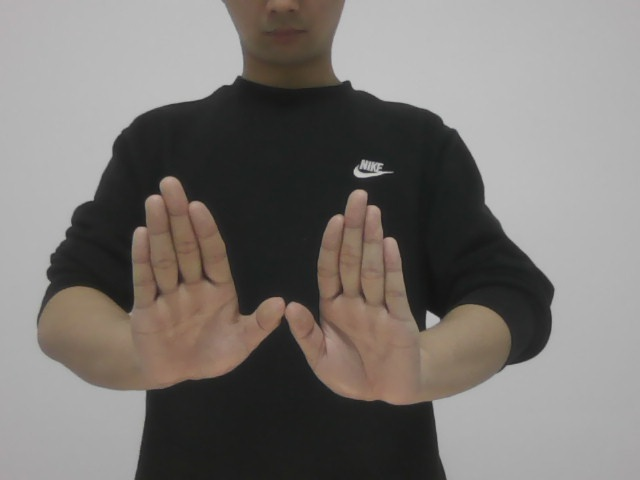door: (125, 166, 436, 416)
